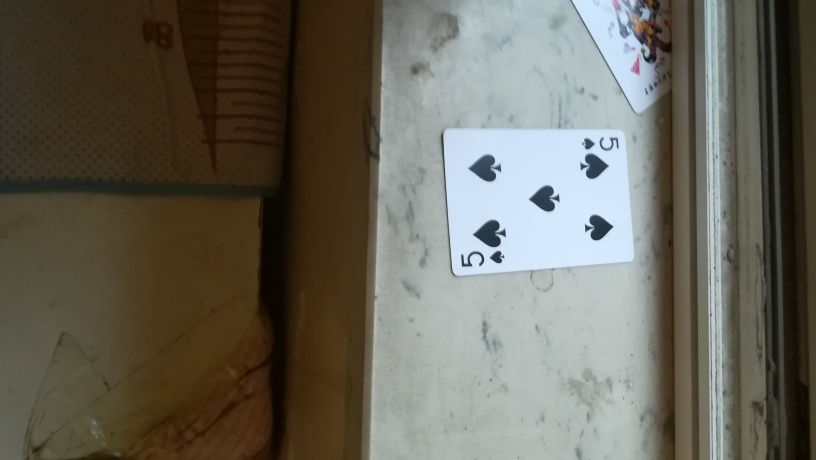ht 5: (436, 121, 639, 276)
